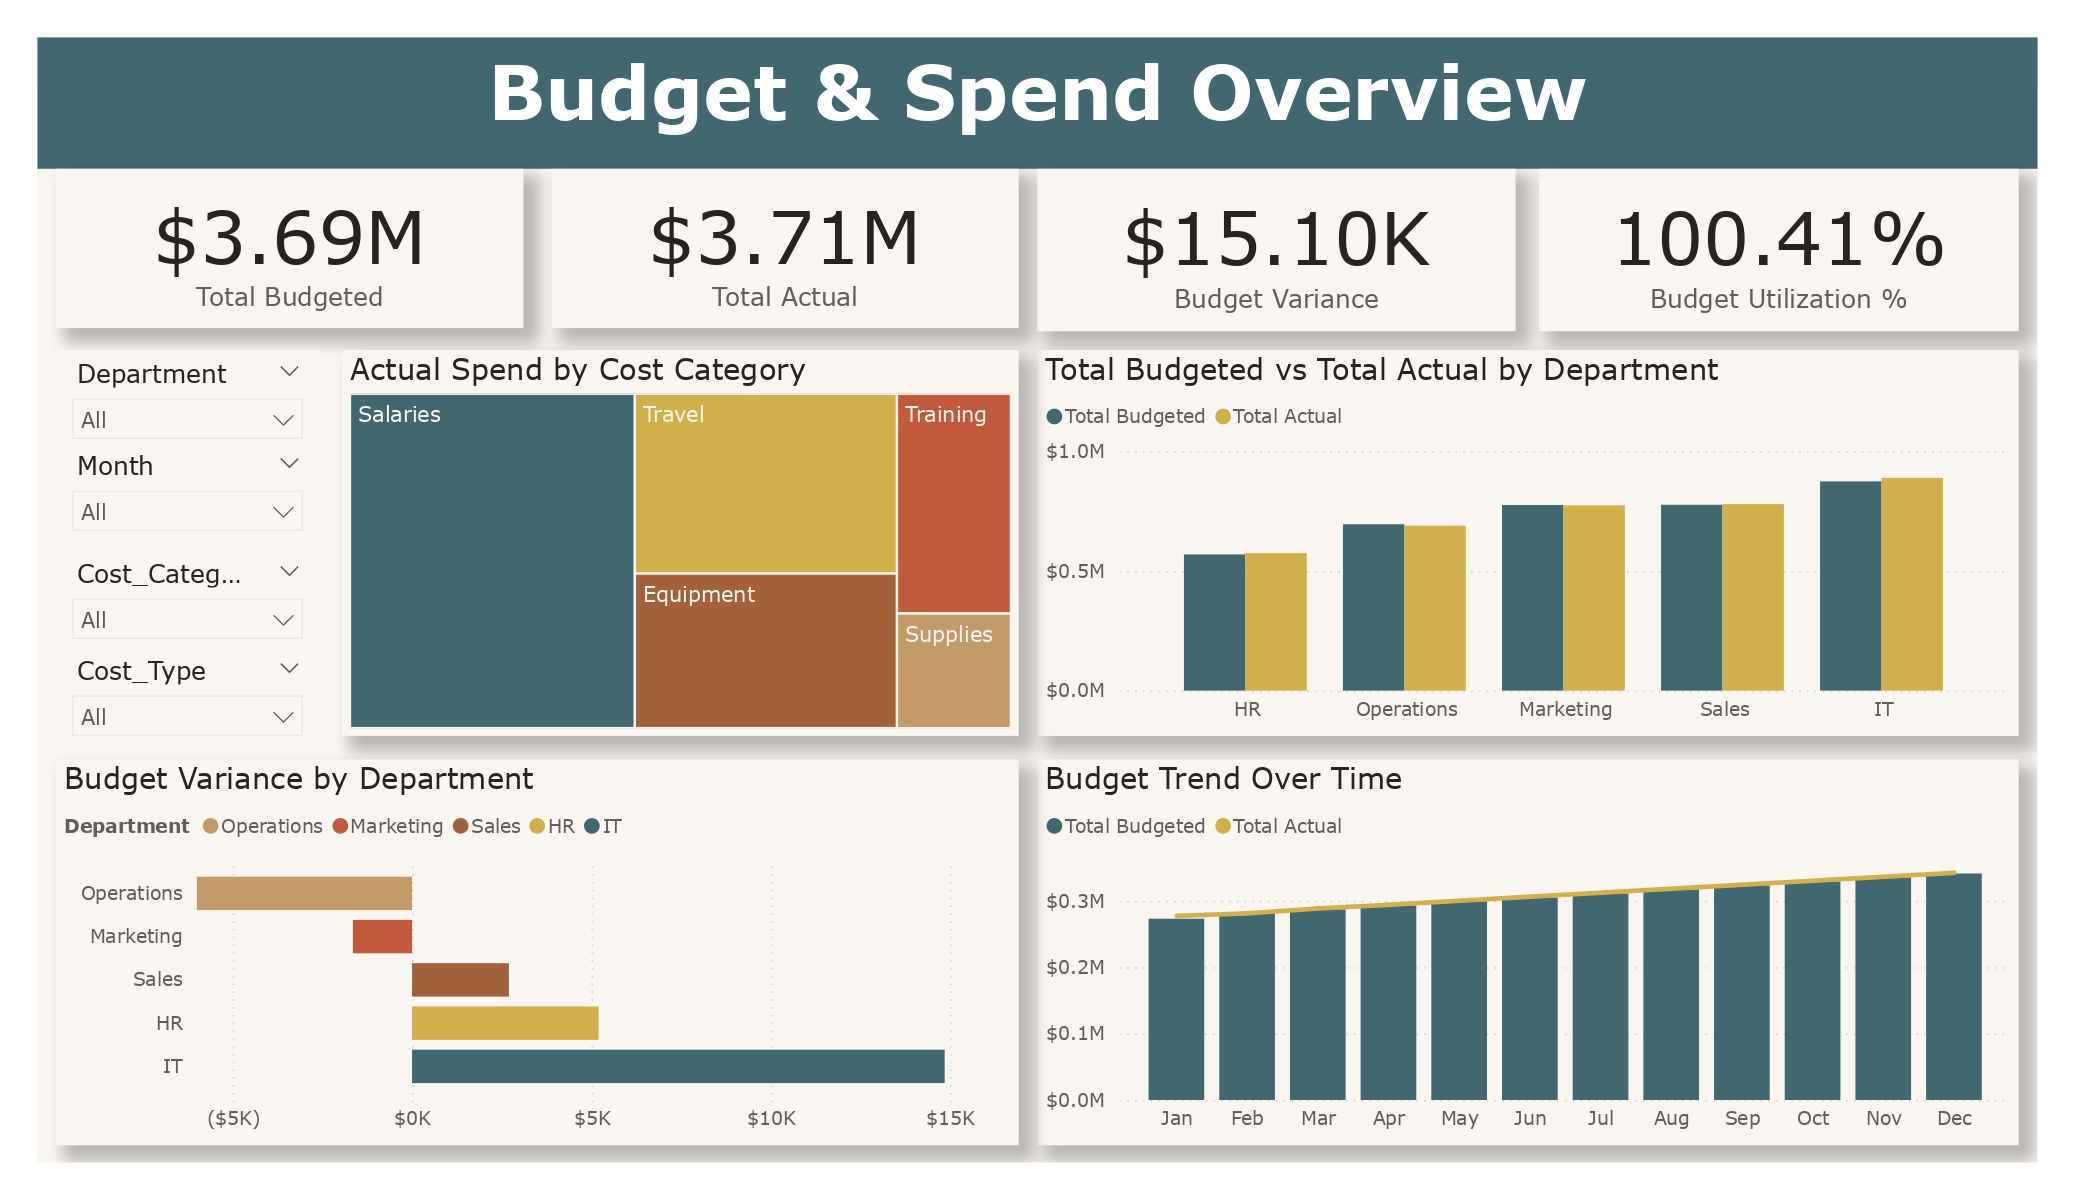

This screenshot's page, from the dashboard's own definition file:
{"tool":"powerbi","page":{"name":"Page 1","canvas":[1280,720],"ordinal":0},"visuals":[{"type":"textbox","box":[0,0,1280,84],"z":0},{"type":"card","fields":{"Values":["Fact_Expenses.Total Budgeted"]},"box":[11.8,84,299,102.5],"z":1000},{"type":"card","fields":{"Values":["Fact_Expenses.Total Actual"]},"box":[329.2,84,299,102.5],"z":2000},{"type":"card","fields":{"Values":["Fact_Expenses.Budget Variance"]},"box":[640,84,305.7,104.1],"z":3000},{"type":"card","fields":{"Values":["Fact_Expenses.Budget Utilization %"]},"box":[960.8,84,307.4,104.1],"z":4000},{"type":"clusteredColumnChart","title":"Total Budgeted vs Total Actual by Department","fields":{"Category":["Dim_Department.Department"],"Y":["Fact_Expenses.Total Budgeted","Fact_Expenses.Total Actual"]},"box":[640,199.9,628.2,246.9],"z":5000},{"type":"lineStackedColumnComboChart","title":"Budget Trend Over Time","fields":{"Category":["Dim_Date.Month"],"Y":["Fact_Expenses.Total Budgeted"],"Y2":["Fact_Expenses.Total Actual"]},"box":[640,461.9,628.2,246.9],"z":6000},{"type":"treemap","title":"Actual Spend by Cost Category","fields":{"Values":["Fact_Expenses.Total Actual"],"Group":["Dim_Cost_Category.Cost_Category"]},"box":[194.9,199.9,433.4,246.9],"z":7000},{"type":"slicer","fields":{"Values":["Dim_Department.Department"]},"box":[11.8,199.9,168,58.8],"z":8000},{"type":"slicer","fields":{"Values":["Dim_Date.Month"]},"box":[11.8,258.7,168,65.5],"z":9000},{"type":"slicer","fields":{"Values":["Dim_Cost_Category.Cost_Category"]},"box":[11.8,327.6,168,62.2],"z":10000},{"type":"slicer","fields":{"Values":["Dim_Cost_Type.Cost_Type"]},"box":[11.8,389.7,168,63.8],"z":11000},{"type":"barChart","title":"Budget Variance by Department","fields":{"Y":["Fact_Expenses.Budget Variance"],"Category":["Dim_Department.Department"],"Series":["Dim_Department.Department"]},"box":[11.8,461.9,616.5,246.9],"z":12000}]}

Visuals, with their boxes on the page's 1280x720 design canvas (x1, y1, x2, y2). These are canvas units, not pixel positions in the 2075x1200 screenshot, which may show the page scaled, cropped or inside an application window:
textbox: <box>0,0,1280,84</box>
card - Fact_Expenses.Total Budgeted: <box>12,84,311,186</box>
card - Fact_Expenses.Total Actual: <box>329,84,628,186</box>
card - Fact_Expenses.Budget Variance: <box>640,84,946,188</box>
card - Fact_Expenses.Budget Utilization %: <box>961,84,1268,188</box>
"Total Budgeted vs Total Actual by Department" clusteredColumnChart: <box>640,200,1268,447</box>
"Budget Trend Over Time" lineStackedColumnComboChart: <box>640,462,1268,709</box>
"Actual Spend by Cost Category" treemap: <box>195,200,628,447</box>
slicer - Dim_Department.Department: <box>12,200,180,259</box>
slicer - Dim_Date.Month: <box>12,259,180,324</box>
slicer - Dim_Cost_Category.Cost_Category: <box>12,328,180,390</box>
slicer - Dim_Cost_Type.Cost_Type: <box>12,390,180,454</box>
"Budget Variance by Department" barChart: <box>12,462,628,709</box>
